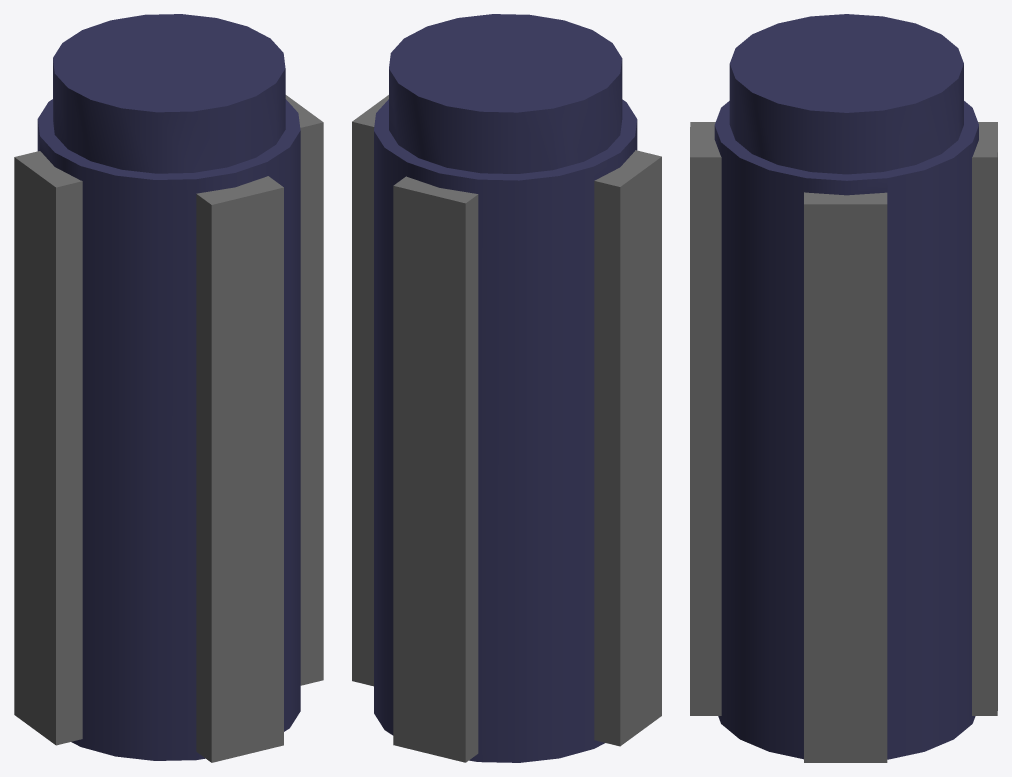
File: missappartmentcolour.fbx
The picture shows the model from 3 angles, left to right: view 1: azimuth 30°, elevation 25°; view 2: azimuth 150°, elevation 25°; view 3: azimuth 270°, elevation 25°; orthographic projection.
Visible parts, largest first — view 1: pCube6; view 2: pCube6; view 3: pCube6.
Part boxes in pixels (x1,y1,x2,y2): pCube6: [14, 14, 323, 762]; pCube6: [352, 14, 661, 762]; pCube6: [690, 14, 997, 762].
Bounding box in the file's own units: 7.62 × 17.48 × 7.58.
